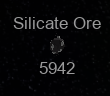Silicate: (13, 16, 103, 78)
